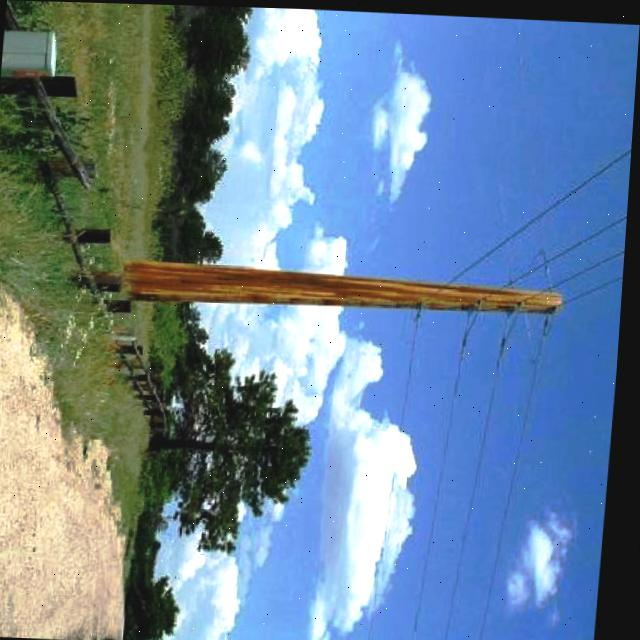poles: (125, 257, 568, 316)
wires: (452, 137, 630, 306), (484, 309, 562, 640), (446, 319, 523, 640), (413, 311, 488, 640), (366, 309, 431, 640)
